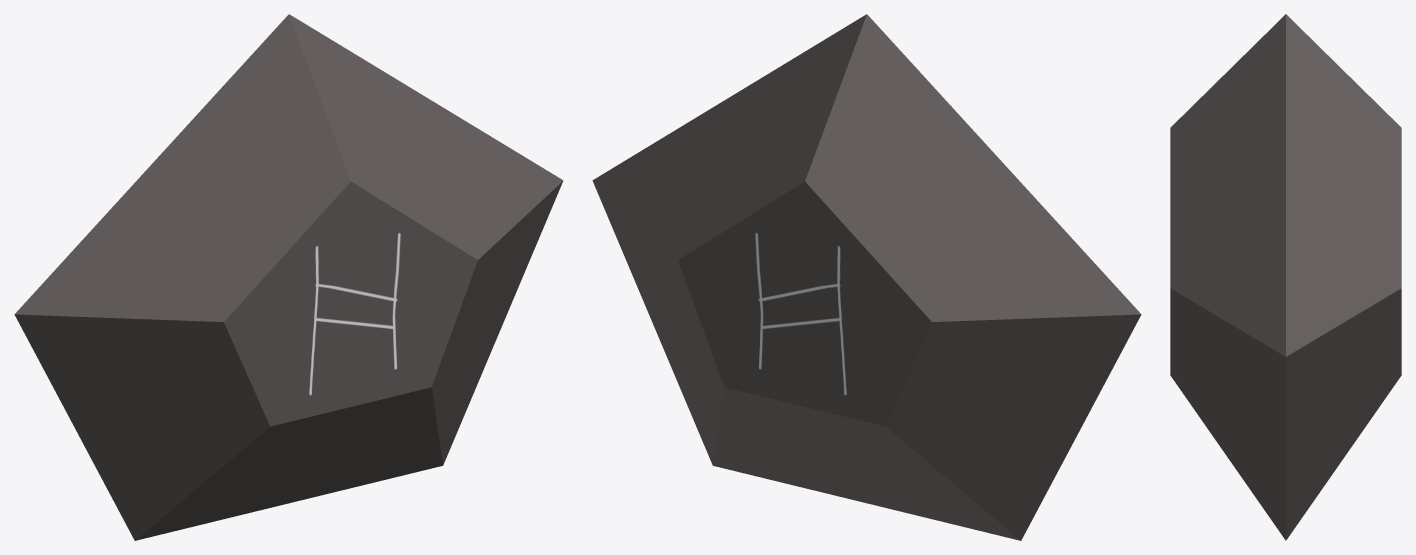
Rendered from rune_valravn_textured.fbx.
3 renders of one model, left to right at view 1: azimuth 30°, elevation 25°; view 2: azimuth 150°, elevation 25°; view 3: azimuth 270°, elevation 25°, orthographic. The views are drawn at different scales.
Parts seen in each view (by area): view 1: rune_valravn; view 2: rune_valravn; view 3: rune_valravn.
Boxes of the visible parts, left/top/right/bottom form: rune_valravn: left=14, top=14, right=563, bottom=540; rune_valravn: left=592, top=14, right=1141, bottom=540; rune_valravn: left=1170, top=14, right=1401, bottom=540.
Size of the model in its own units: 511 by 435 by 200.
1 material, 1 textured.
